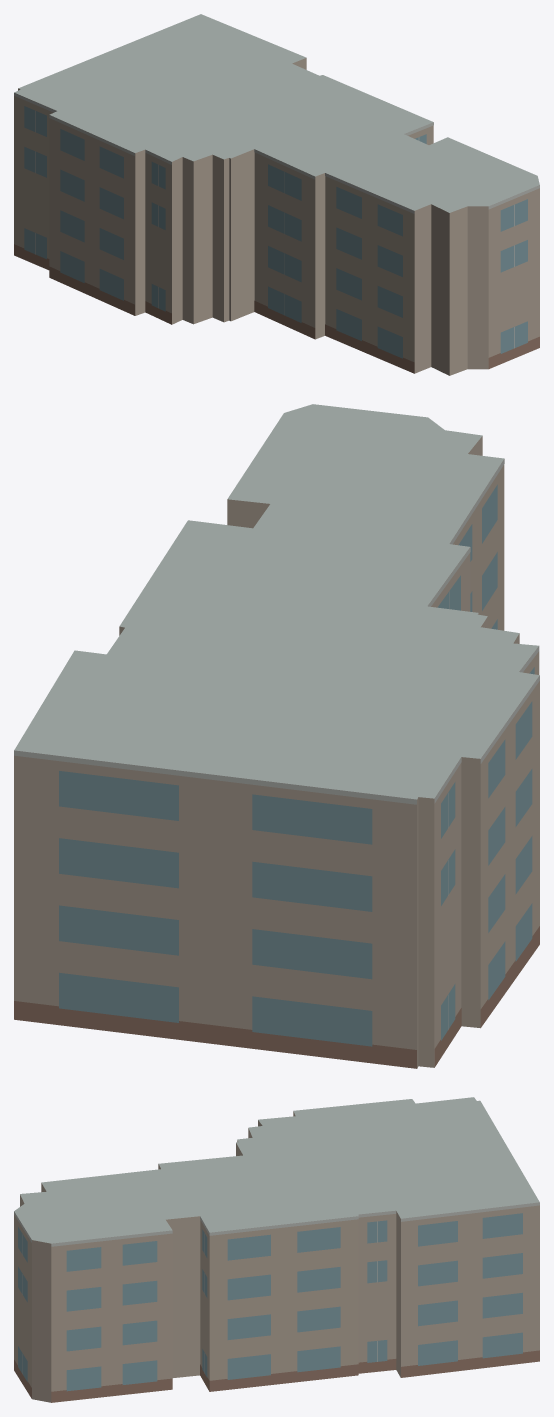
File: survey-upis-32659058.glb
3 views of the same model, one above another, from view 1: azimuth 30°, elevation 25°; view 2: azimuth 150°, elevation 25°; view 3: azimuth 270°, elevation 25° (orthographic). The views are drawn at different scales.
Visible parts, largest first — view 1: survey-upis-32659058.tmp; view 2: survey-upis-32659058.tmp; view 3: survey-upis-32659058.tmp.
Part boxes in pixels (x1,y1,x2,y2): survey-upis-32659058.tmp: [14, 14, 539, 375]; survey-upis-32659058.tmp: [14, 404, 539, 1068]; survey-upis-32659058.tmp: [14, 1097, 539, 1402].
Size of the model in its own units: 24.49 by 12.4 by 37.13.
